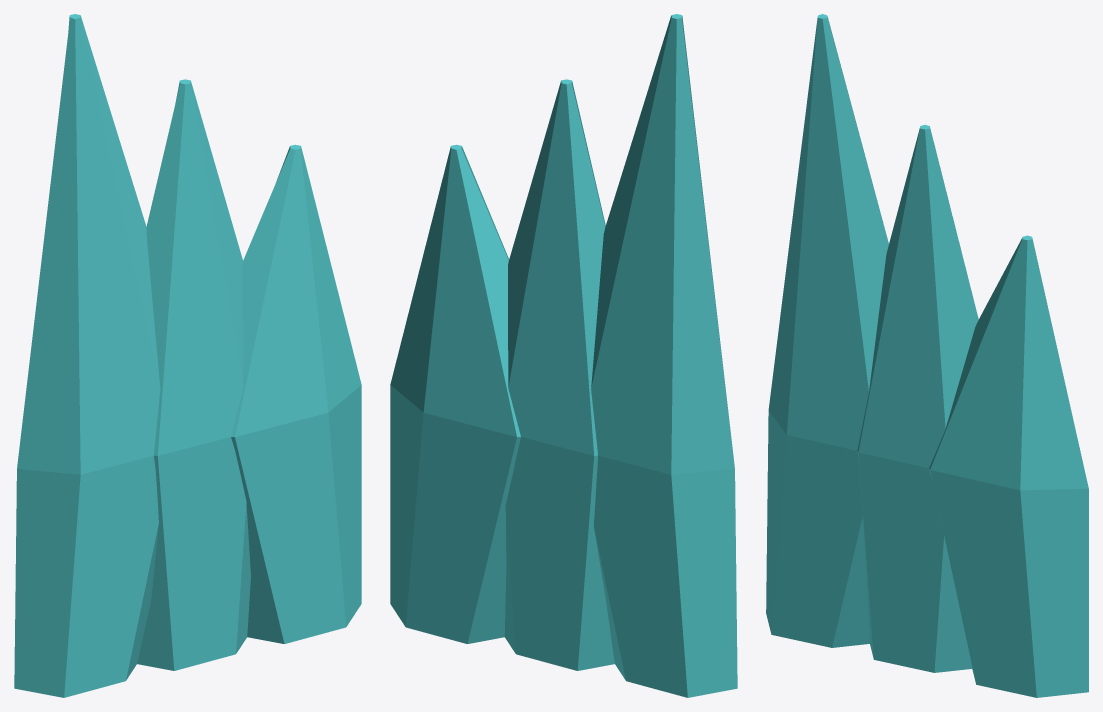
Rendered from resonant_splinter.fbx.
3 views of the same model, side by side, from view 1: azimuth 30°, elevation 25°; view 2: azimuth 150°, elevation 25°; view 3: azimuth 330°, elevation 25° (orthographic). The views are drawn at different scales.
Visible parts, largest first — view 1: splinter_0, splinter_2, splinter_1; view 2: splinter_0, splinter_2, splinter_1; view 3: splinter_0, splinter_2, splinter_1.
Boxes of the visible parts, x1,y1,x2,y2 form: splinter_0: (14, 14, 160, 697); splinter_2: (231, 144, 361, 643); splinter_1: (137, 79, 250, 670); splinter_0: (591, 14, 737, 697); splinter_2: (390, 144, 520, 643); splinter_1: (504, 79, 614, 670); splinter_0: (766, 14, 888, 647); splinter_2: (929, 235, 1088, 697); splinter_1: (857, 125, 978, 672).
Bounding box in the file's own units: 31.52 × 57 × 6.93.
